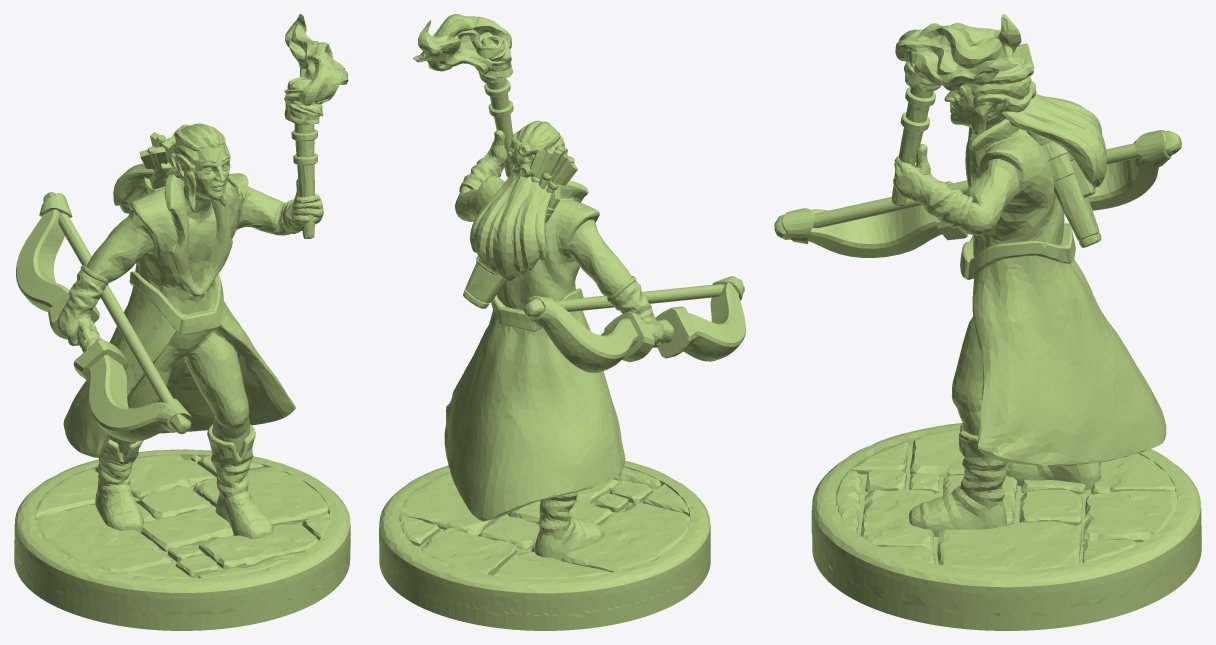
File: galhorn.glb
3 renders of one model, left to right at view 1: azimuth 30°, elevation 25°; view 2: azimuth 150°, elevation 25°; view 3: azimuth 270°, elevation 25°, orthographic. The views are drawn at different scales.
Parts seen in each view (by area): view 1: galhorn; view 2: galhorn; view 3: galhorn.
Boxes of the visible parts, x1,y1,x2,y2 form: galhorn: (14, 14, 350, 630); galhorn: (379, 14, 745, 630); galhorn: (774, 14, 1201, 630).
Bounding box in the file's own units: 29.97 × 51 × 32.84.
